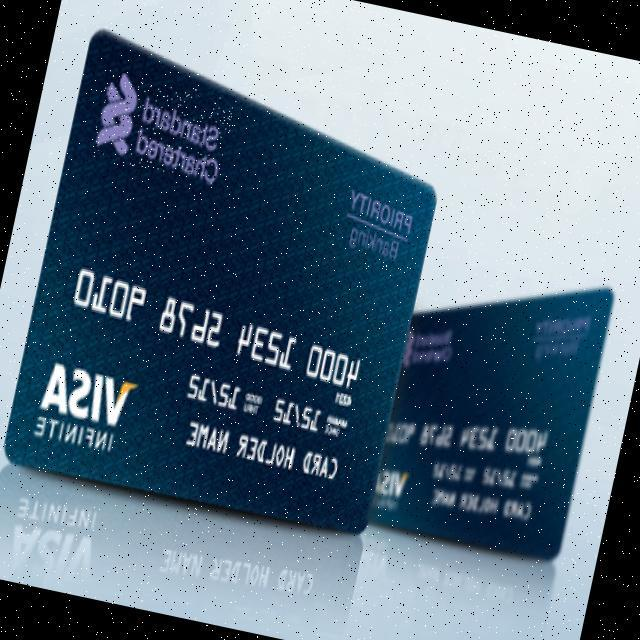Standard Chartered: (89, 70, 237, 186)
